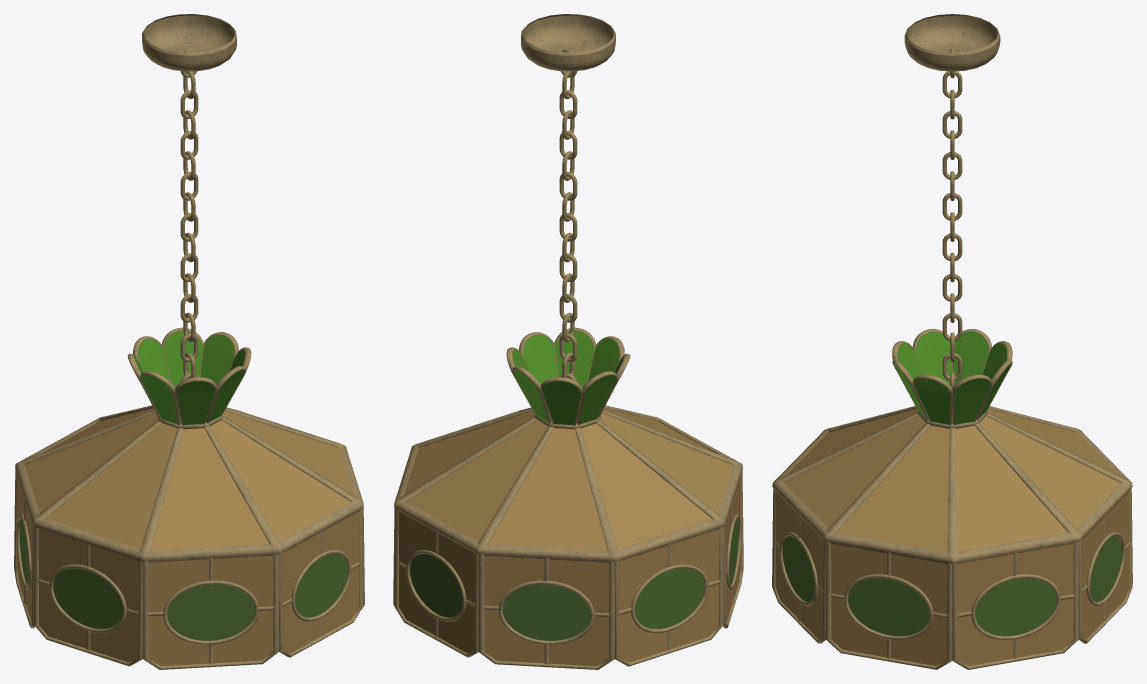
The model's file is SM_Kitchen_Chandelier.fbx.
3 renders of one model, left to right at view 1: azimuth 30°, elevation 25°; view 2: azimuth 150°, elevation 25°; view 3: azimuth 270°, elevation 25°, orthographic.
Parts seen in each view (by area): view 1: SM_Kitchen_Chandelier_LOD0; view 2: SM_Kitchen_Chandelier_LOD0; view 3: SM_Kitchen_Chandelier_LOD0.
Boxes of the visible parts, left/top/right/bottom form: SM_Kitchen_Chandelier_LOD0: left=14, top=14, right=364, bottom=669; SM_Kitchen_Chandelier_LOD0: left=393, top=14, right=743, bottom=669; SM_Kitchen_Chandelier_LOD0: left=772, top=14, right=1132, bottom=669.
Bounding box in the file's own units: 54.29 × 54.29 × 93.51.
Materials: 2 (2 with a texture image).
